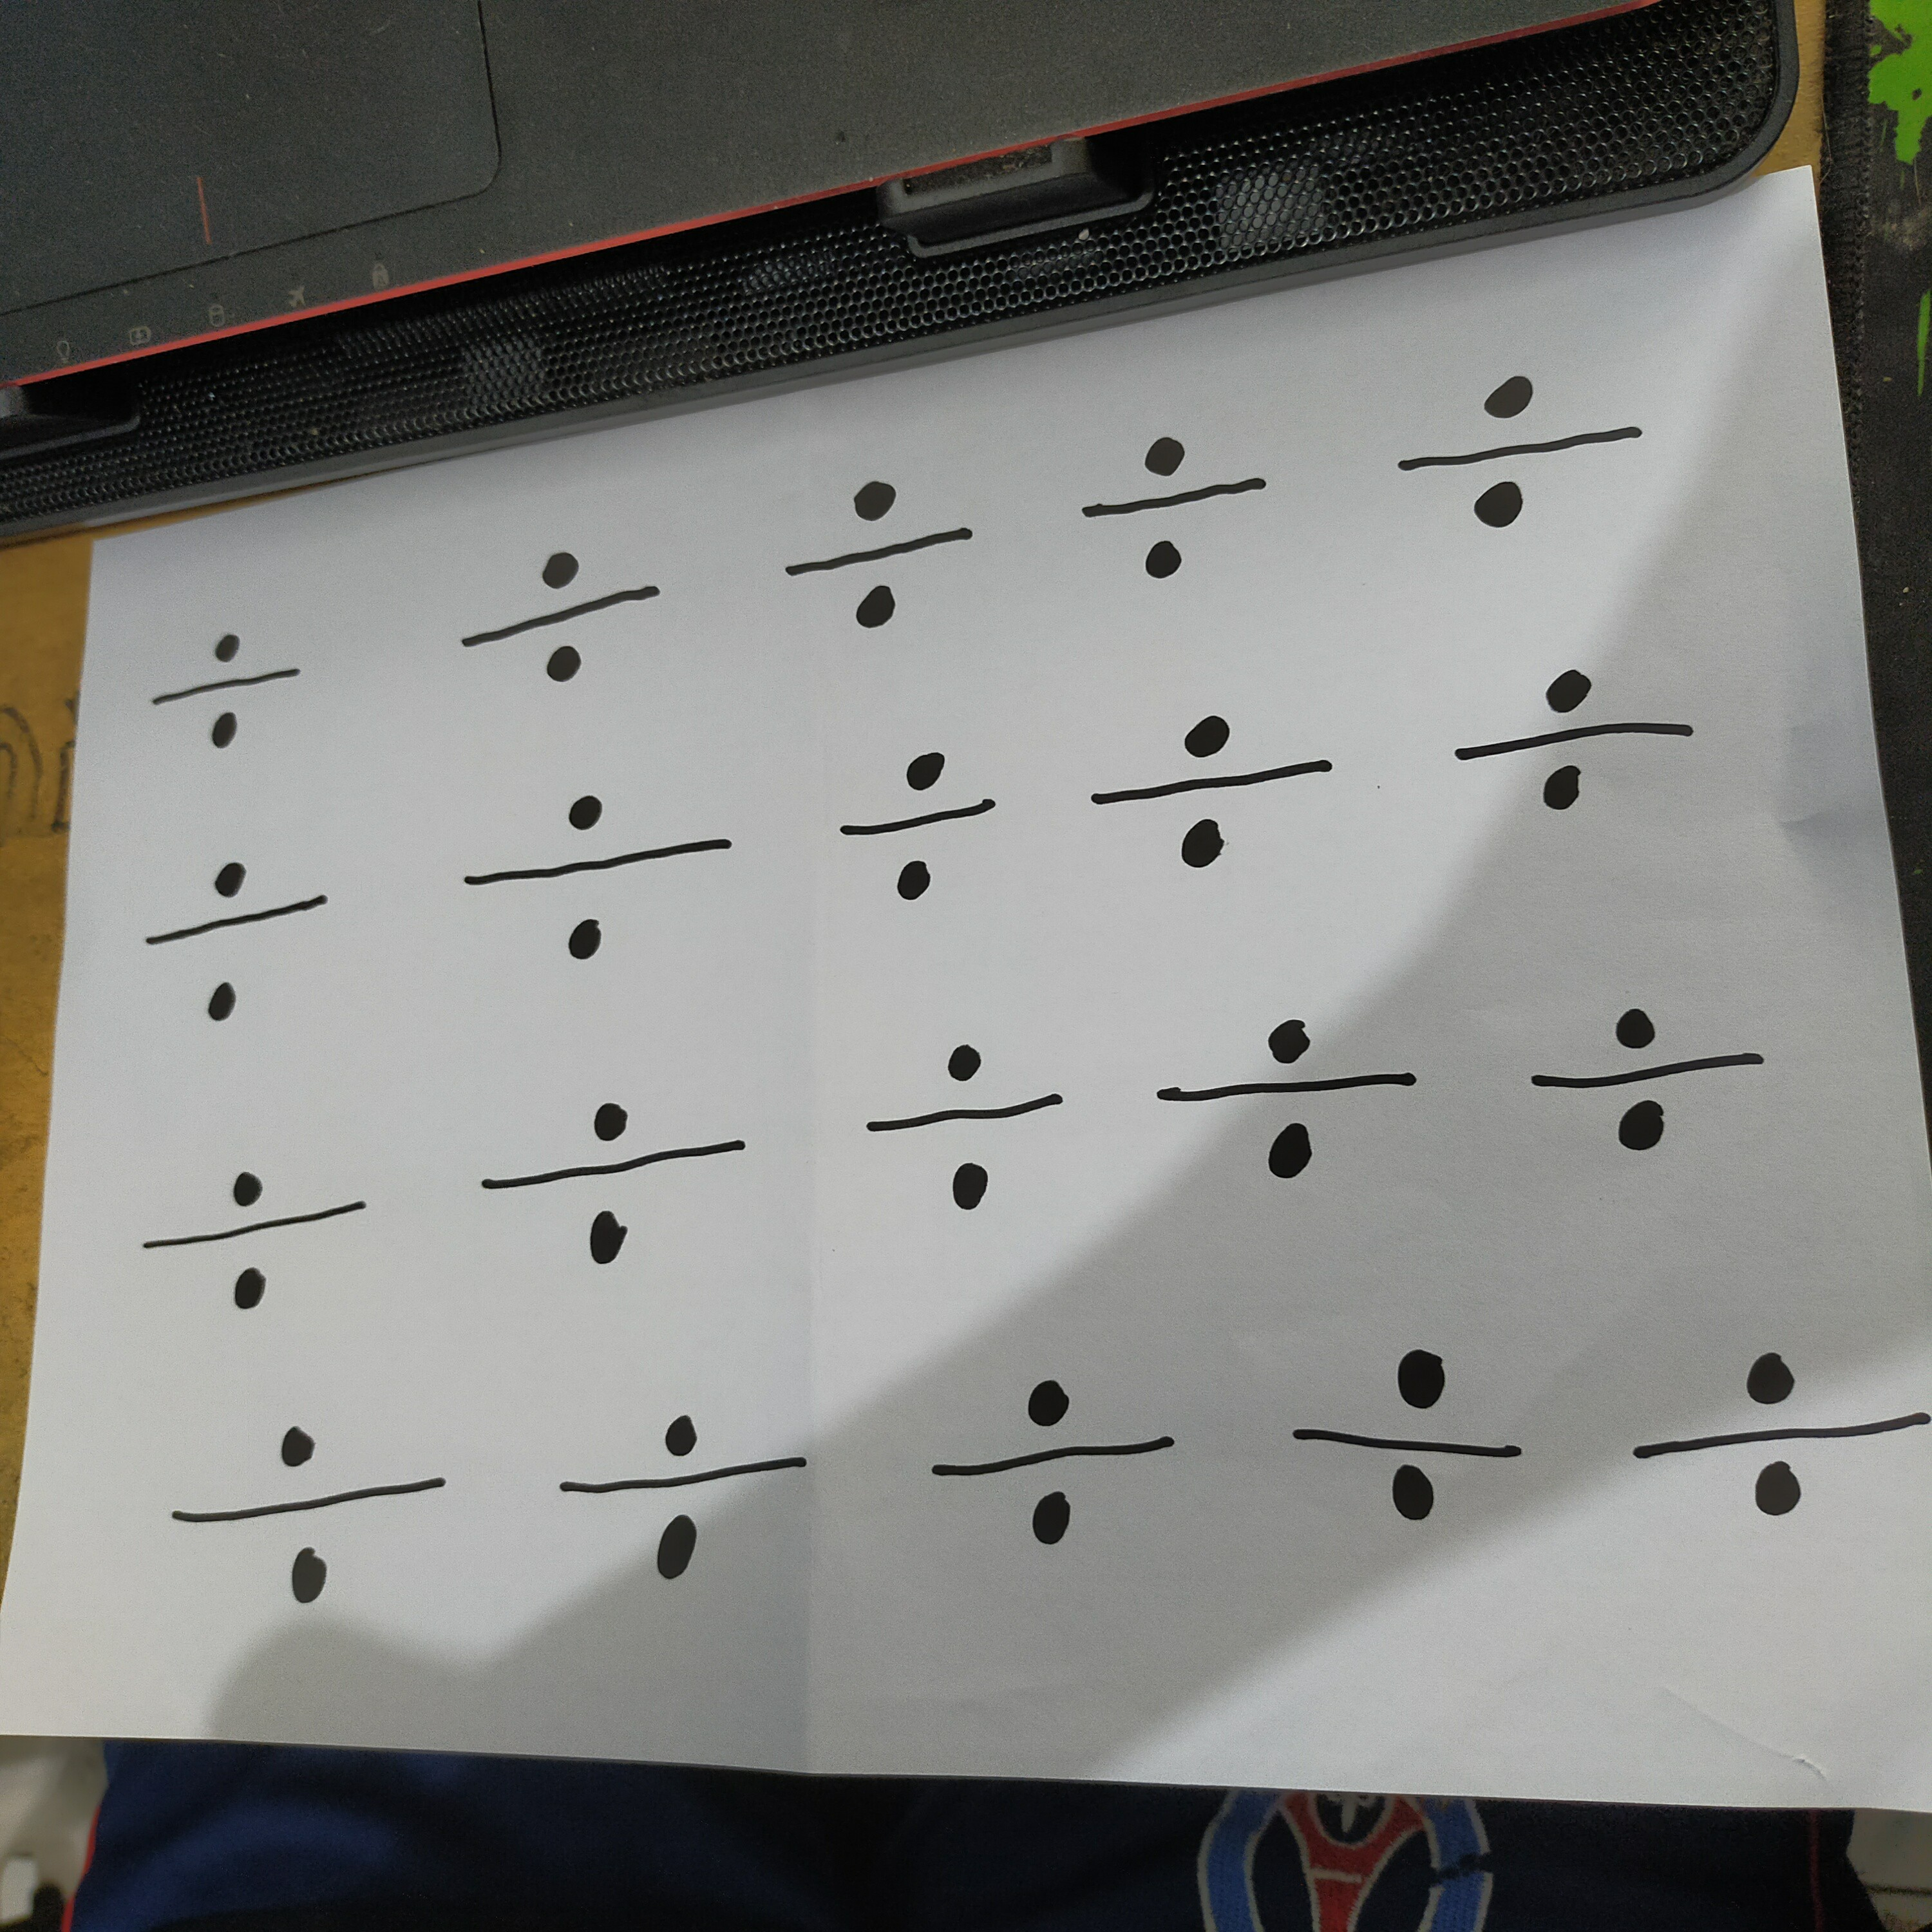div: (1624, 1331, 1932, 1568), (154, 1410, 480, 1621), (450, 786, 753, 981), (1135, 1012, 1455, 1194), (552, 1399, 829, 1605), (1287, 1334, 1547, 1549), (1383, 361, 1678, 548), (462, 1096, 772, 1270), (923, 1363, 1188, 1564), (103, 848, 366, 1039), (1079, 708, 1352, 882), (857, 1034, 1088, 1236), (1450, 659, 1725, 827), (433, 538, 704, 708), (132, 1160, 393, 1336), (1516, 997, 1779, 1160), (1052, 425, 1303, 591), (770, 471, 993, 645), (823, 745, 1024, 929), (136, 626, 319, 753)
